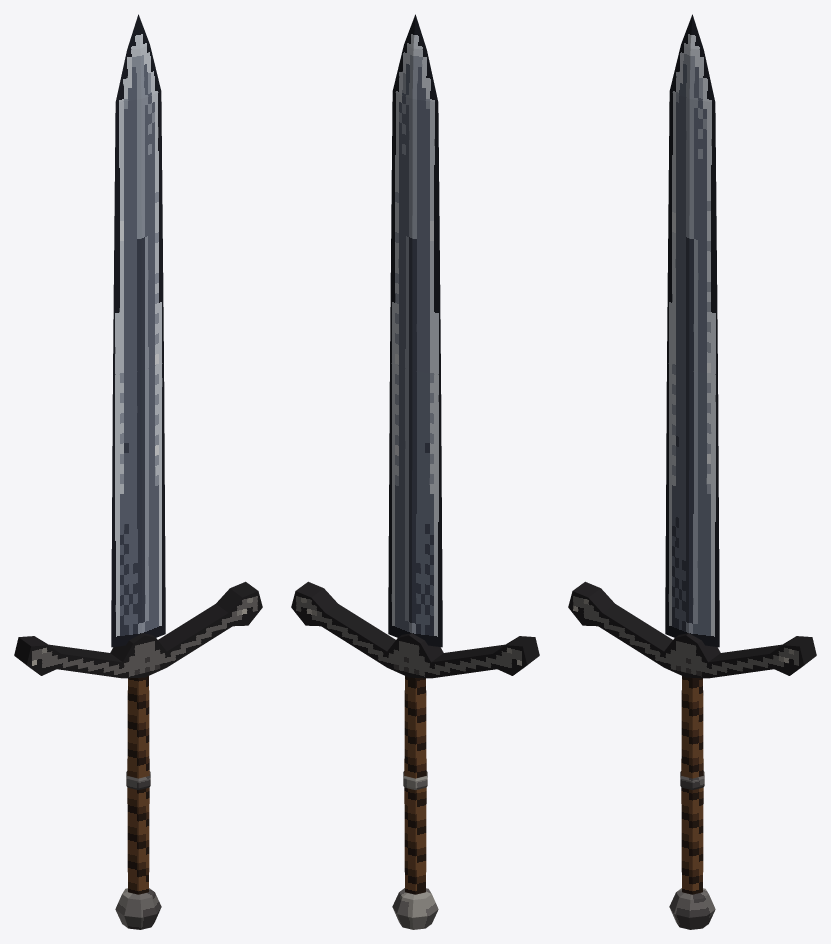
File: sword_2h_claymore.glb
The picture shows the model from 3 angles, left to right: view 1: azimuth 30°, elevation 25°; view 2: azimuth 150°, elevation 25°; view 3: azimuth 330°, elevation 25°; orthographic projection.
Parts seen in each view (by area): view 1: sword_2h_claymore; view 2: sword_2h_claymore; view 3: sword_2h_claymore.
Part boxes in pixels (x1,y1,x2,y2): sword_2h_claymore: (14, 14, 262, 929); sword_2h_claymore: (291, 14, 539, 929); sword_2h_claymore: (568, 14, 816, 929).
Bounding box in the file's own units: 0.536 × 1.99 × 0.085.
Materials: 1 (1 with a texture image).
